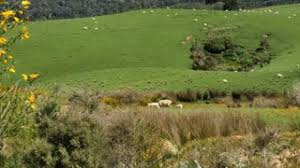sheep: (159, 99, 173, 108), (147, 102, 162, 109), (174, 103, 184, 110), (221, 79, 233, 84), (83, 25, 91, 31), (277, 72, 285, 78), (93, 26, 98, 32)
